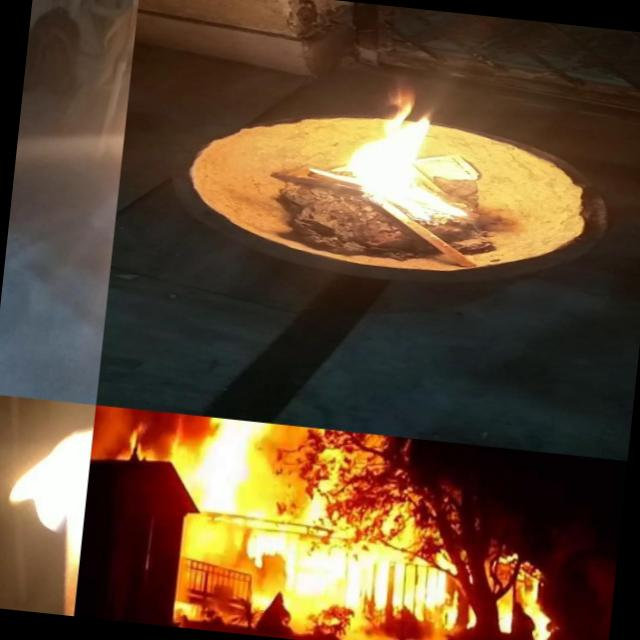fire: (328, 80, 501, 227), (178, 415, 314, 575), (0, 396, 95, 570), (117, 414, 192, 466), (522, 585, 560, 640)
